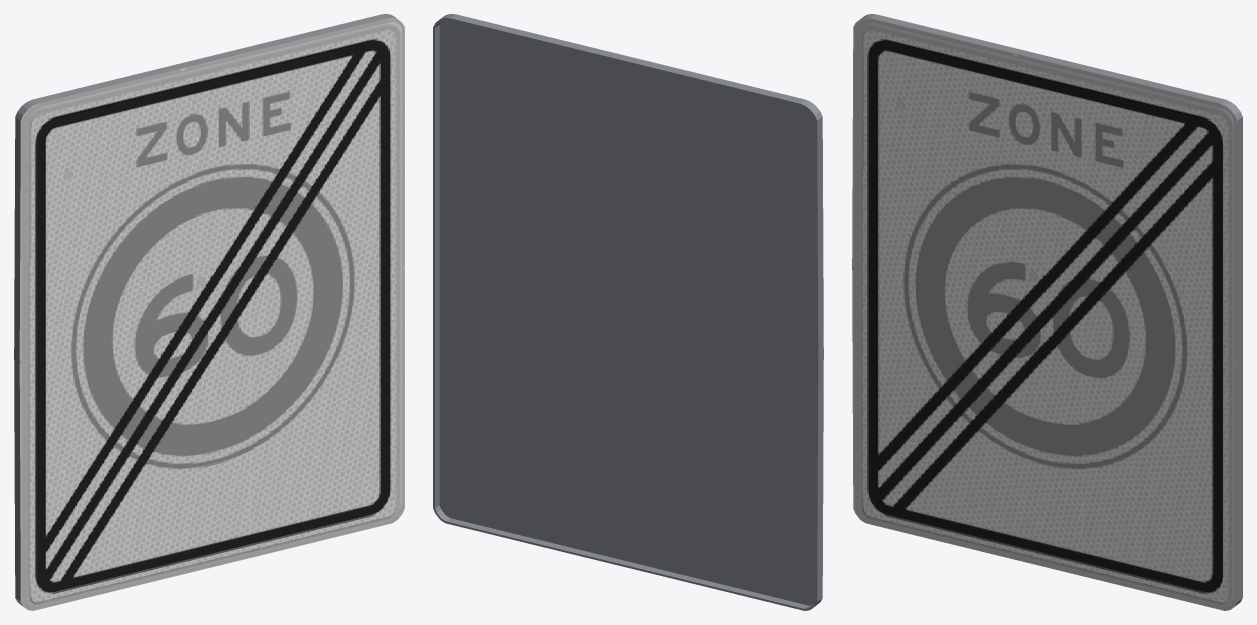
3 views of the same model, side by side, from view 1: azimuth 30°, elevation 25°; view 2: azimuth 150°, elevation 25°; view 3: azimuth 330°, elevation 25° (orthographic).
Parts seen in each view (by area): view 1: cat_d410f1a2b9619421; view 2: cat_d410f1a2b9619421; view 3: cat_d410f1a2b9619421.
Part boxes in pixels (box(x1,y1,x2,y2)): cat_d410f1a2b9619421: box(14, 14, 404, 610); cat_d410f1a2b9619421: box(433, 14, 823, 610); cat_d410f1a2b9619421: box(852, 14, 1242, 610).
Size of the model in its own units: 0.6 by 0.015 by 0.7535.
2 materials, 1 textured.
